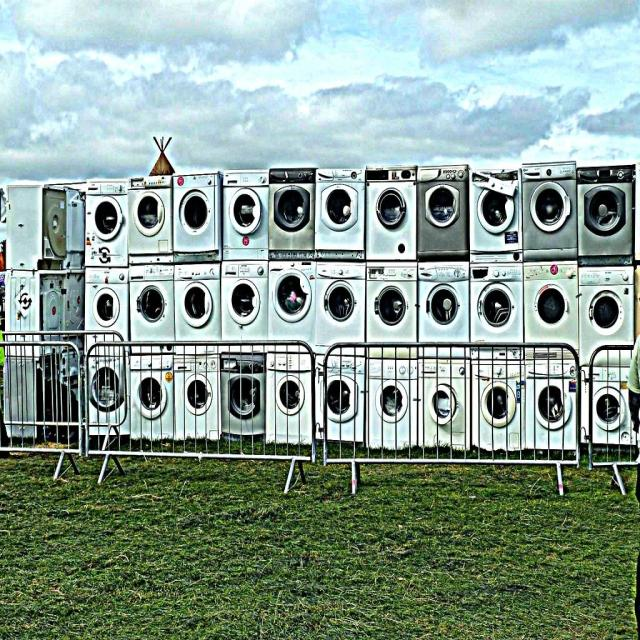E-waste: (1, 156, 639, 458)
Metal: (0, 318, 640, 513)
